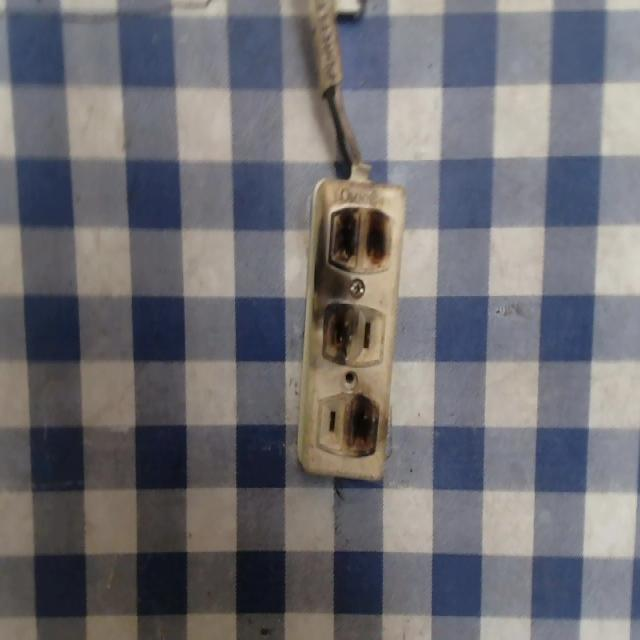-: (324, 200, 397, 277), (340, 388, 383, 464), (317, 296, 357, 364)
